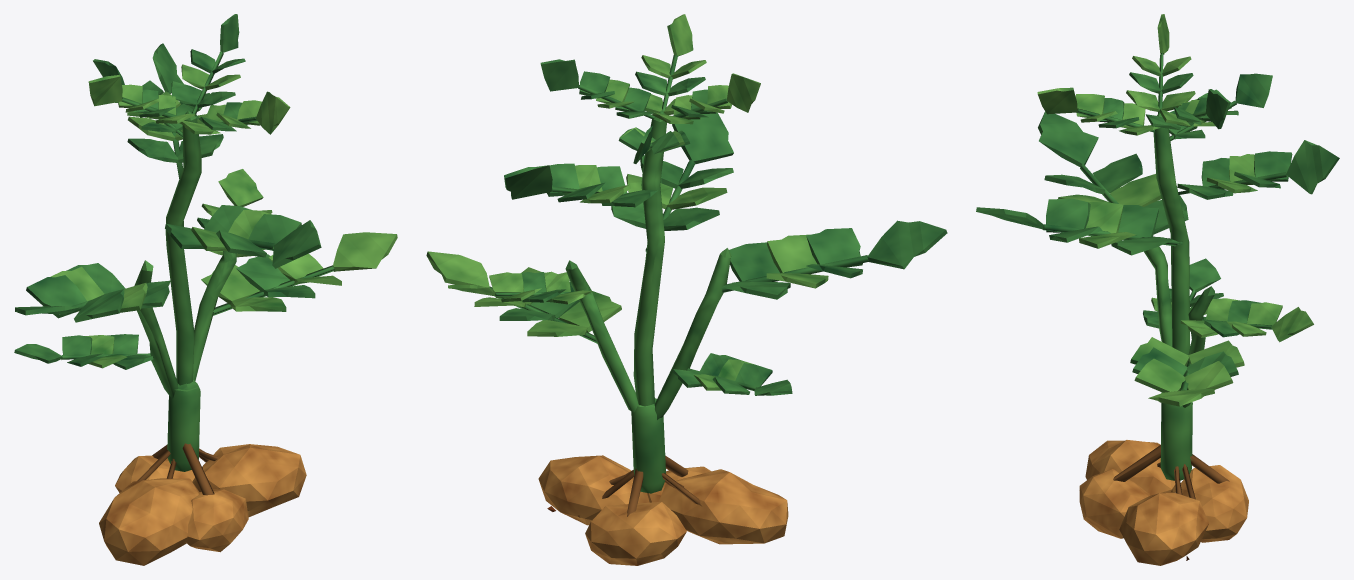
File: potato_stage_1.glb
3 renders of one model, left to right at view 1: azimuth 30°, elevation 25°; view 2: azimuth 150°, elevation 25°; view 3: azimuth 270°, elevation 25°, orthographic. The views are drawn at different scales.
Visible parts, largest first — view 1: potato_stage_1; view 2: potato_stage_1; view 3: potato_stage_1.
Boxes of the visible parts, x1=… form: potato_stage_1: x1=14, y1=14, x2=397, y2=565; potato_stage_1: x1=426, y1=14, x2=947, y2=565; potato_stage_1: x1=976, y1=14, x2=1339, y2=565.
Bounding box in the file's own units: 0.7693 × 0.7955 × 0.553.
1 material, 1 textured.
